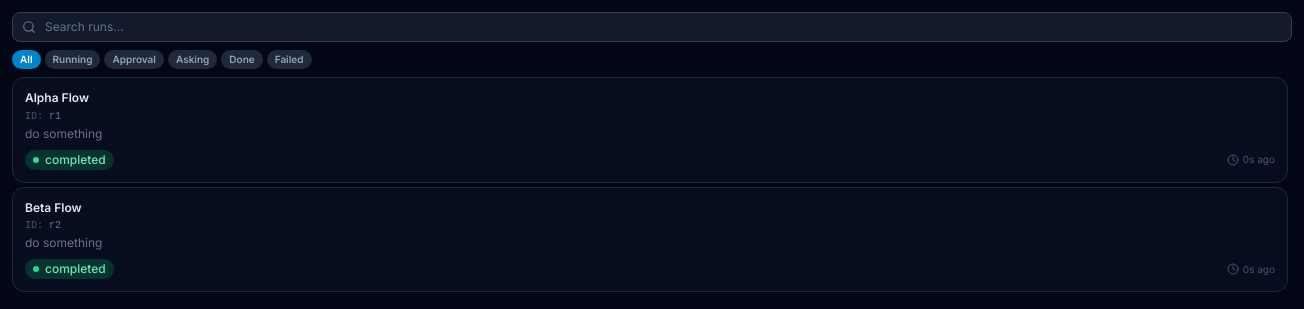
Test: WorkflowList › clears search text with the × button
Type "alpha" into the field with placeholder "Search runs…".
click(652, 27); type("alpha")  # box [12,12,1292,42]
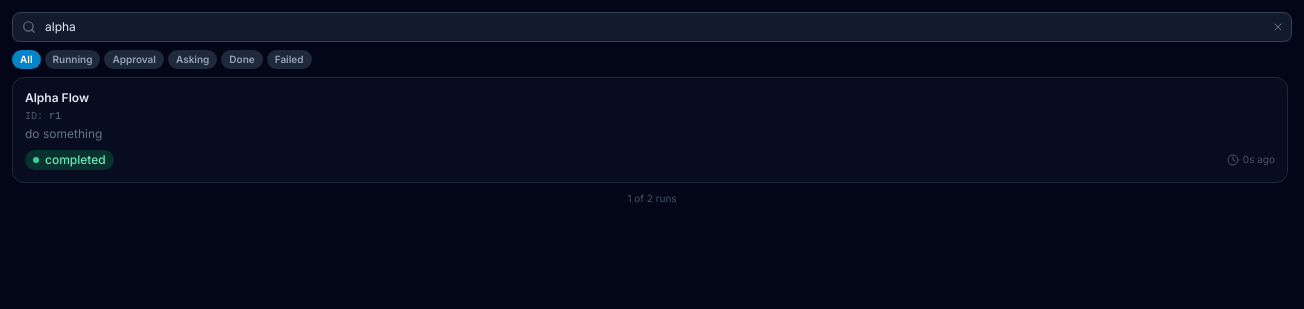
Check: the text "Beta Flow" is gone
Click the button named "Clear search".
click(1278, 27)  # box [1272,21,1284,33]
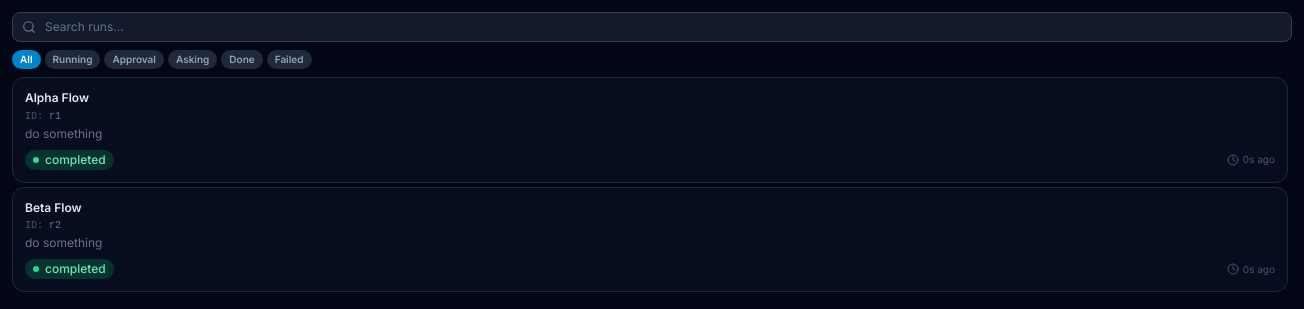
Check: the text "Beta Flow" is shown, box [25,200,82,216]
